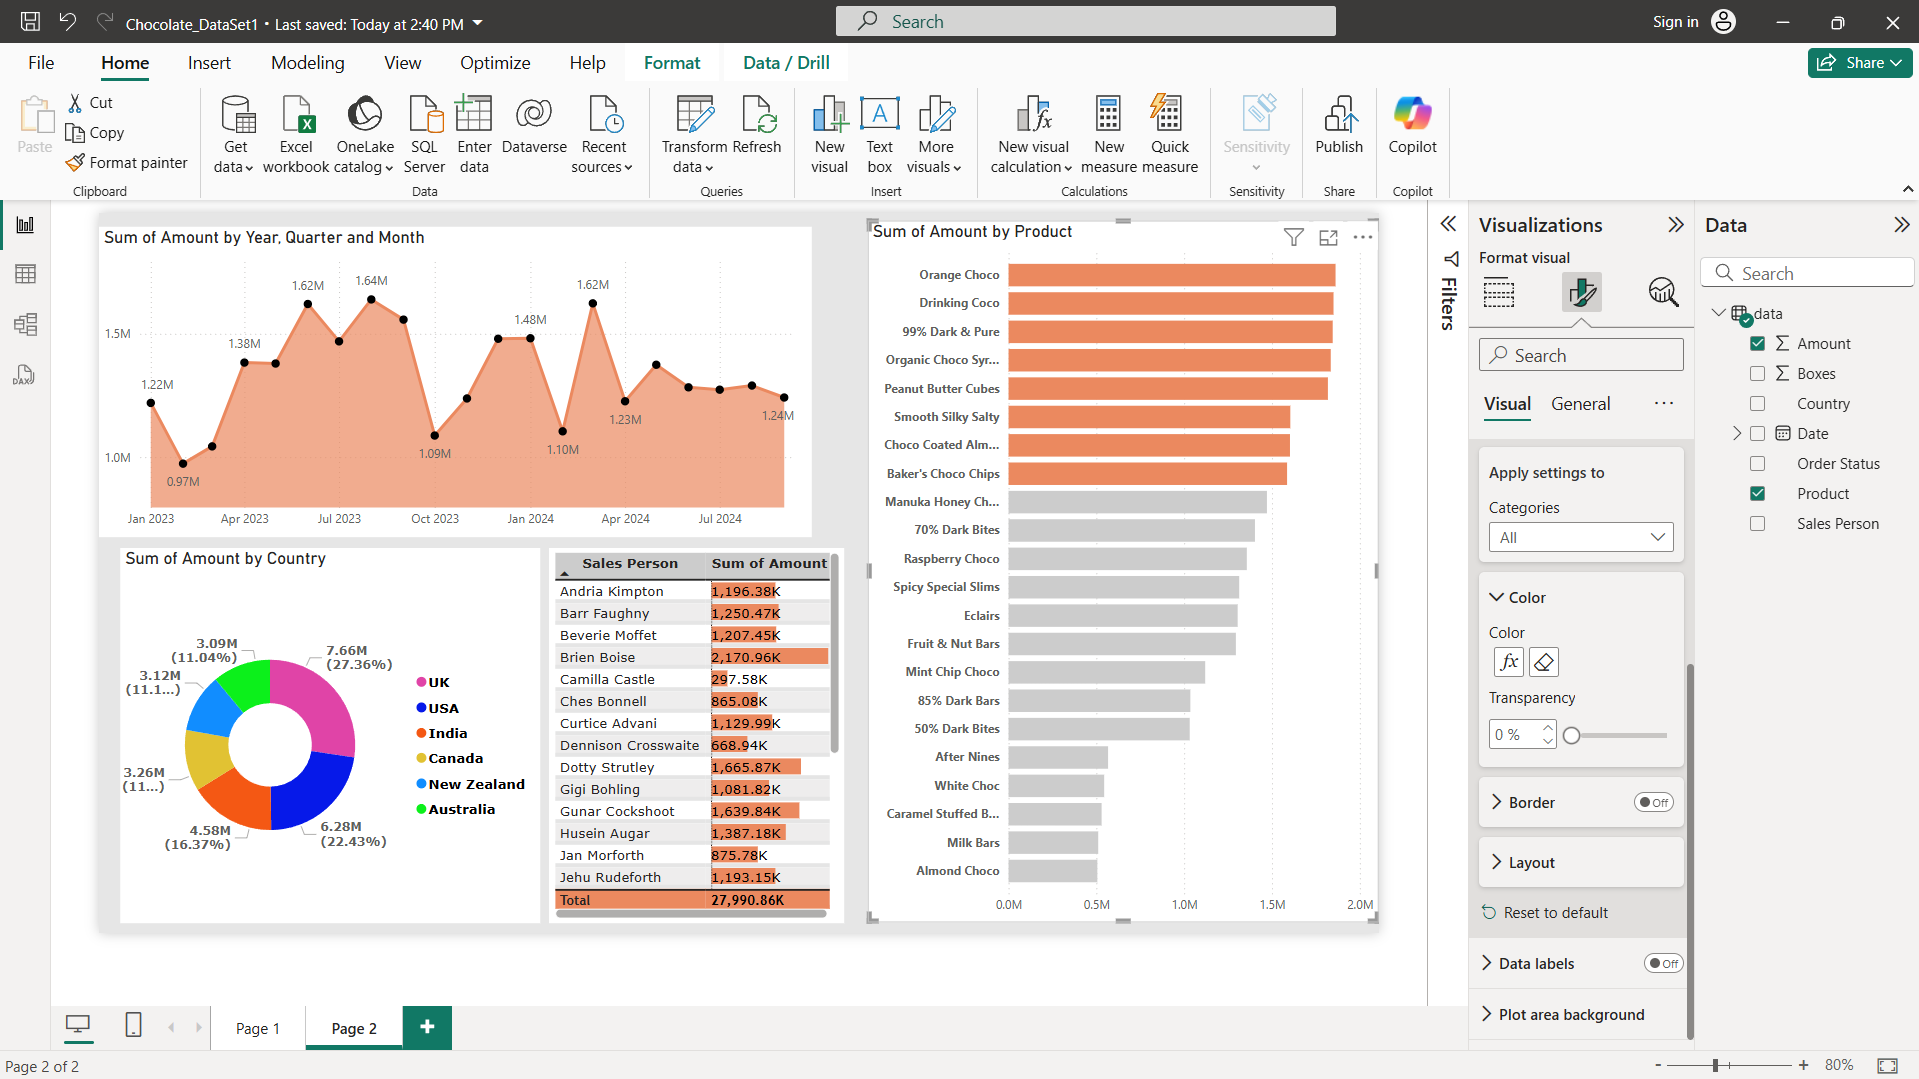

The dashboard page shown, as its layout file describes it:
{"tool":"powerbi","page":{"name":"Page 2","canvas":[1280,720],"ordinal":1},"visuals":[{"type":"lineChart","fields":{"Category":["data.Date.Variation.Date Hierarchy.Year","data.Date.Variation.Date Hierarchy.Quarter","data.Date.Variation.Date Hierarchy.Month","data.Date.Variation.Date Hierarchy.Day"],"Y":["Sum(data.Amount)"]},"box":[0,103.8,790,282.5],"z":0},{"type":"donutChart","fields":{"Category":["data.Country"],"Y":["Sum(data.Amount)"]},"box":[18.8,395,405,312.5],"z":1000},{"type":"tableEx","fields":{"Values":["data.Sales Person","Sum(data.Amount)"]},"box":[455,395,335,325],"z":2000},{"type":"clusteredBarChart","fields":{"Category":["data.Product"],"Y":["Sum(data.Amount)"]},"box":[808.8,103.8,471.2,616.2],"z":3000},{"type":"cardVisual","fields":{"Data":["Sum(data.Amount)","Sum(data.Boxes)"]},"box":[346.2,0,443.8,103.8],"z":4000},{"type":"slicer","fields":{"Values":["data.Date"]},"box":[808.8,5,471.2,90],"z":5000},{"type":"textbox","box":[8.8,5,327.5,63.8],"z":6000}]}

Visuals, with their boxes on the page's 1280x720 design canvas (x1, y1, x2, y2). These are canvas units, not pixel positions in the 1919x1079 screenshot, which may show the page scaled, cropped or inside an application window:
lineChart - data.Date.Variation.Date Hierarchy.Year x data.Date.Variation.Date Hierarchy.Quarter: <region>0, 104, 790, 386</region>
donutChart - data.Country x Sum(data.Amount): <region>19, 395, 424, 708</region>
tableEx - data.Sales Person x Sum(data.Amount): <region>455, 395, 790, 720</region>
clusteredBarChart - data.Product x Sum(data.Amount): <region>809, 104, 1280, 720</region>
cardVisual - Sum(data.Amount) x Sum(data.Boxes): <region>346, 0, 790, 104</region>
slicer - data.Date: <region>809, 5, 1280, 95</region>
textbox: <region>9, 5, 336, 69</region>
